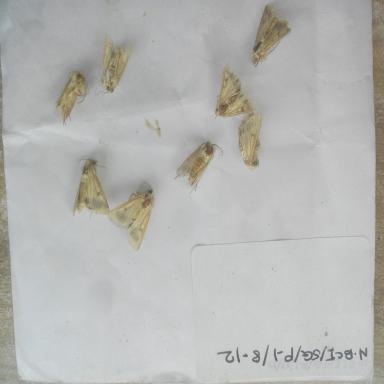abw: (104, 174, 160, 256), (245, 0, 296, 76), (70, 149, 114, 226), (92, 28, 136, 104), (211, 58, 260, 124), (48, 65, 93, 130), (172, 136, 218, 191), (233, 102, 266, 176)
